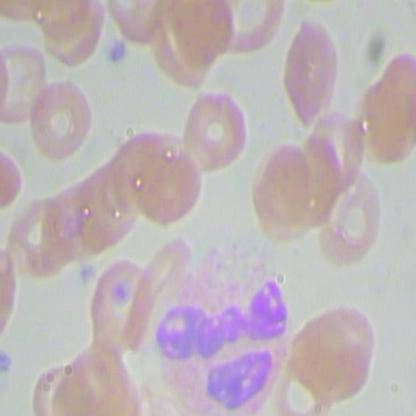Platelets: (103, 36, 129, 68), (71, 258, 97, 290), (0, 346, 16, 380)
RBC: (272, 15, 344, 133), (314, 154, 386, 272), (308, 288, 380, 406), (276, 301, 350, 415), (175, 82, 253, 181), (25, 71, 102, 170), (357, 44, 415, 164), (90, 251, 149, 367), (135, 137, 203, 236), (249, 143, 317, 242), (106, 128, 166, 226), (82, 152, 142, 250), (57, 171, 117, 268), (6, 190, 66, 286), (0, 35, 55, 135), (29, 1, 107, 66), (210, 0, 295, 58), (98, 0, 188, 42)
WBC: (145, 242, 292, 415)
